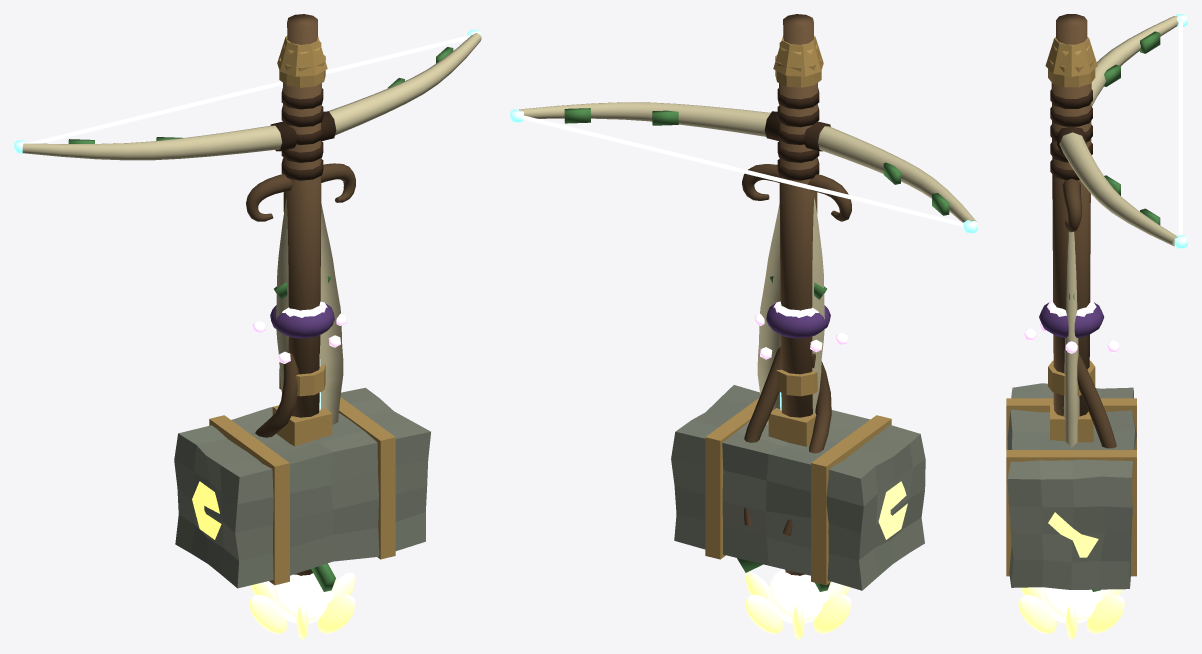
File: weapons.glb
The picture shows the model from 3 angles, left to right: view 1: azimuth 30°, elevation 25°; view 2: azimuth 150°, elevation 25°; view 3: azimuth 270°, elevation 25°; orthographic projection.
Visible parts, largest first — view 1: Stonebreaker, Windstring, Bloomstaff, Groveblade, Sporewand; view 2: Stonebreaker, Windstring, Bloomstaff, Groveblade, Sporewand; view 3: Stonebreaker, Windstring, Bloomstaff, Groveblade, Sporewand.
Part boxes in pixels (left/top/right/bottom): Stonebreaker: left=174, top=36, right=430, bottom=588; Windstring: left=14, top=29, right=481, bottom=160; Bloomstaff: left=249, top=14, right=355, bottom=639; Groveblade: left=246, top=163, right=355, bottom=424; Sporewand: left=253, top=276, right=346, bottom=363; Stonebreaker: left=671, top=35, right=925, bottom=590; Windstring: left=510, top=102, right=977, bottom=232; Bloomstaff: left=737, top=14, right=851, bottom=639; Groveblade: left=742, top=164, right=851, bottom=425; Sporewand: left=754, top=276, right=847, bottom=359; Stonebreaker: left=1006, top=37, right=1136, bottom=589; Windstring: left=1057, top=14, right=1187, bottom=248; Bloomstaff: left=1018, top=14, right=1124, bottom=639; Groveblade: left=1062, top=178, right=1081, bottom=447; Sporewand: left=1024, top=293, right=1118, bottom=353.
Size of the model in its own units: 1.23 by 1.54 by 0.416.
